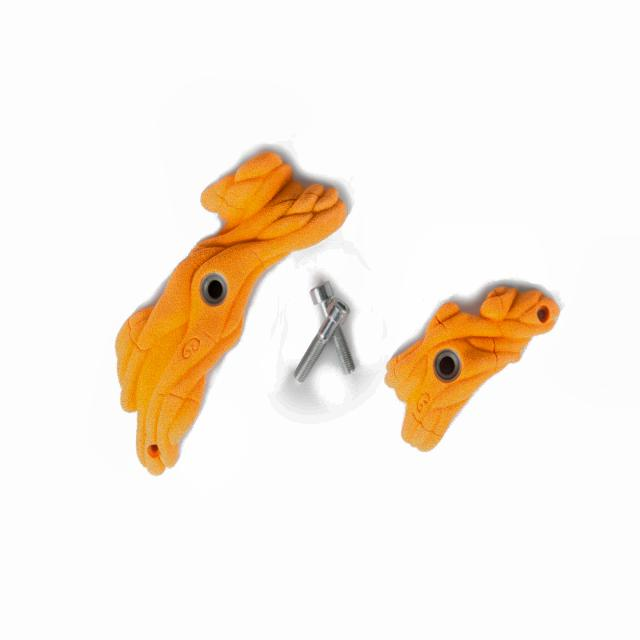Hold: (116, 148, 348, 475), (386, 286, 562, 452)
